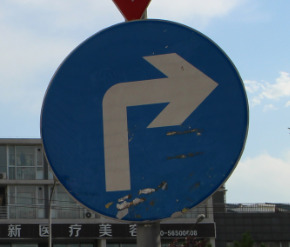right_turn: (40, 19, 249, 221)
